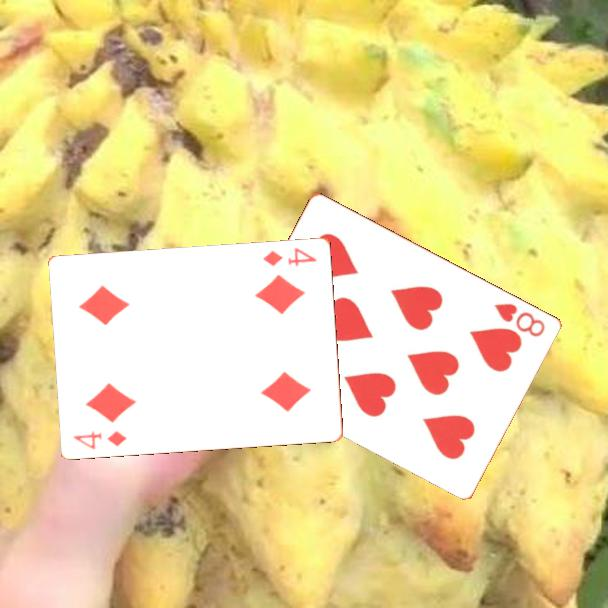d04: (70, 427, 130, 452), (260, 244, 319, 269)
h08: (491, 299, 548, 340)
